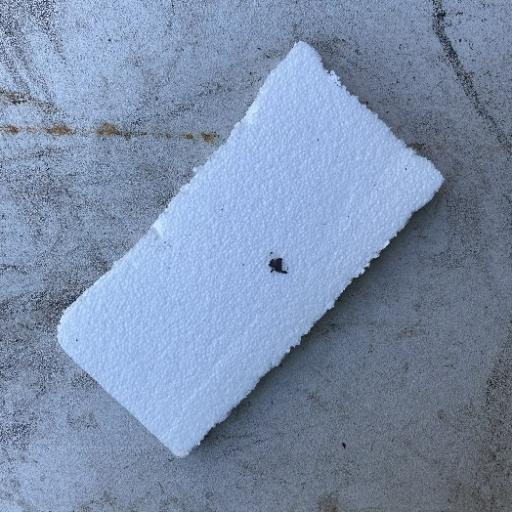Plastic: (54, 38, 446, 459)
